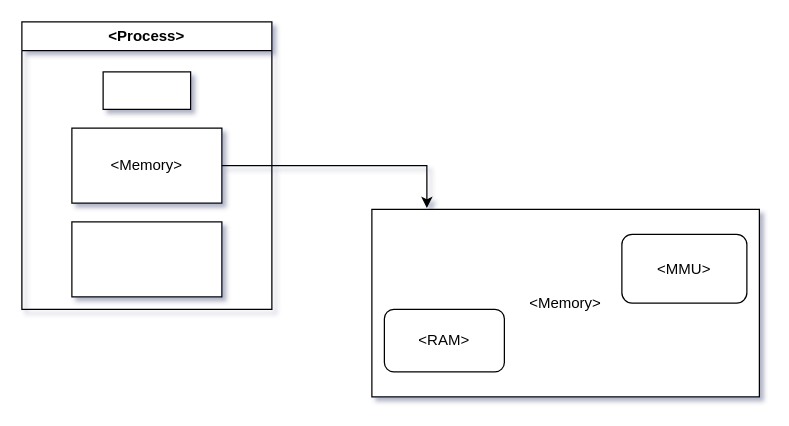
The diagram is 789 pixels wide and 426 high, and some of its shapes have lost their labels. Each missing label, with the centre of its shape:
"<Id>" goes at point (146, 90).
"<PageTable>" goes at point (146, 259).
